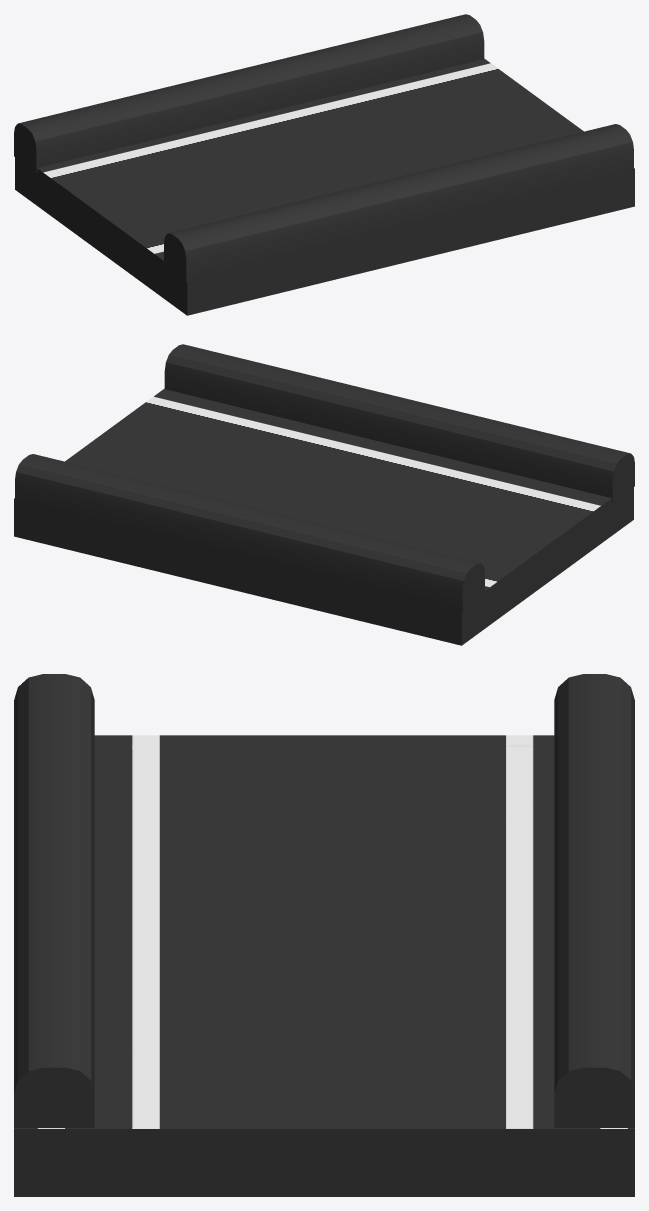
Rendered from road.fbx.
The picture shows the model from 3 angles, top to bottom: view 1: azimuth 30°, elevation 25°; view 2: azimuth 150°, elevation 25°; view 3: azimuth 270°, elevation 25°; orthographic projection. The views are drawn at different scales.
Parts seen in each view (by area): view 1: Cube, Cube.002; view 2: Cube, Cube.002; view 3: Cube, Cube.002.
Part boxes in pixels (<box>): Cube: <box>15,58,634,315</box>; Cube.002: <box>14,14,633,282</box>; Cube: <box>14,388,633,645</box>; Cube.002: <box>15,344,634,612</box>; Cube: <box>14,735,634,1196</box>; Cube.002: <box>14,674,634,1127</box>.
Bounding box in the file's own units: 352 × 53.47 × 234.
